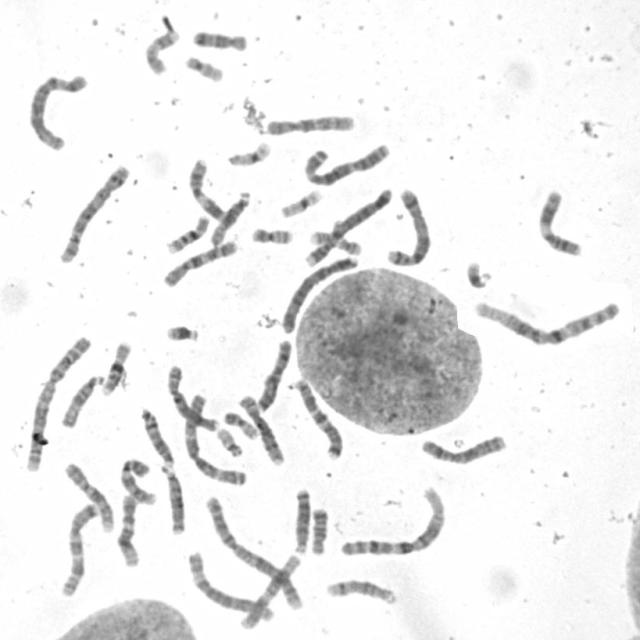A1: (337, 484, 449, 558), (470, 296, 623, 348)
A2: (202, 492, 305, 612), (22, 333, 93, 472)
A3: (182, 389, 248, 487), (300, 139, 391, 187)
B4: (300, 184, 394, 269), (278, 252, 360, 336)
B5: (56, 162, 132, 265), (383, 184, 432, 269)
C10: (159, 238, 238, 290), (262, 112, 356, 138)
C11: (534, 186, 584, 259), (187, 155, 227, 222)
C12: (237, 550, 303, 632), (114, 492, 142, 570)
C6: (185, 546, 277, 624), (25, 70, 89, 152)
C7: (294, 376, 346, 462), (57, 500, 99, 598)
C8: (163, 361, 220, 434), (236, 393, 286, 468)
C9: (62, 459, 115, 533), (117, 457, 157, 509)
D13: (158, 459, 187, 536), (290, 486, 312, 556)
D14: (138, 406, 178, 470), (323, 576, 399, 608)
D15: (57, 371, 105, 430), (206, 187, 252, 248)
E16: (163, 212, 211, 256), (98, 338, 133, 396)
E17: (142, 27, 181, 77), (306, 227, 363, 256)
E18: (190, 28, 248, 54), (308, 505, 330, 556)
F19: (224, 138, 274, 169), (278, 186, 324, 218)
F20: (220, 409, 260, 440), (248, 224, 296, 246)
G21: (464, 258, 494, 290), (162, 321, 202, 344)
G22: (183, 53, 225, 83), (214, 424, 245, 459)
X: (417, 432, 511, 468), (254, 337, 295, 414)
